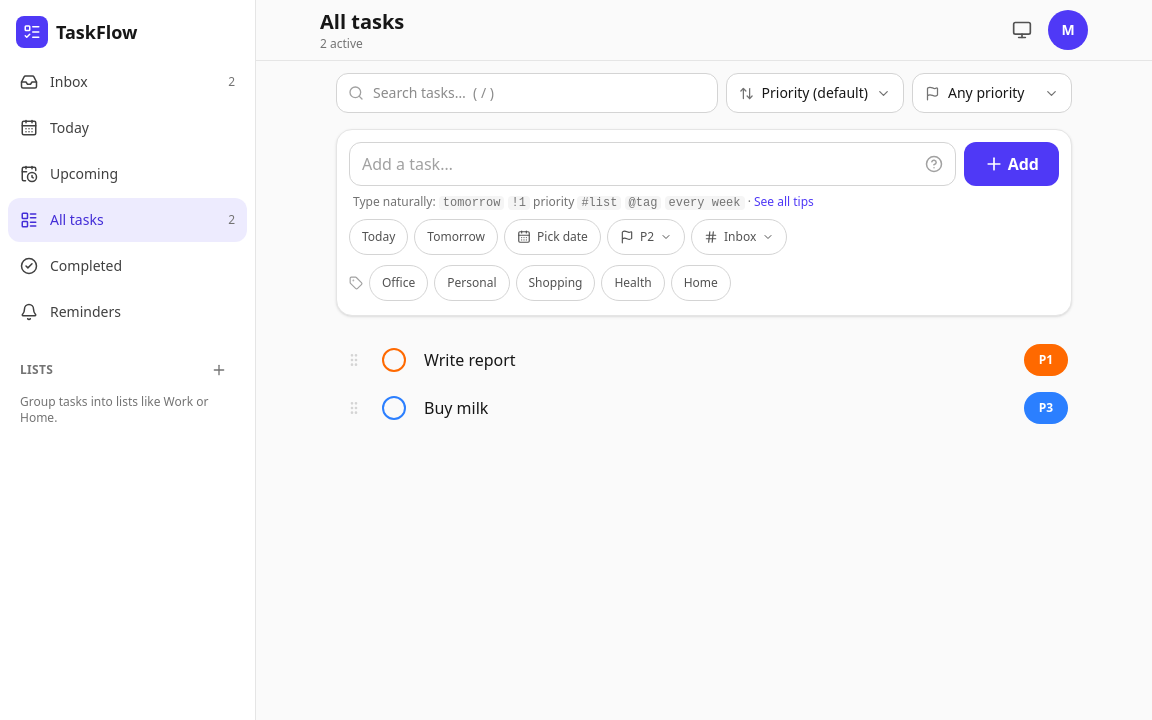
Test: TodoApp › toggles complete instantly and persists
What coordinates should you click on to do the following:
click the checkbox named "Mark as done: Write report"
I would click on:
 (394, 360)
Its box is x1=382 y1=348 x2=406 y2=372.
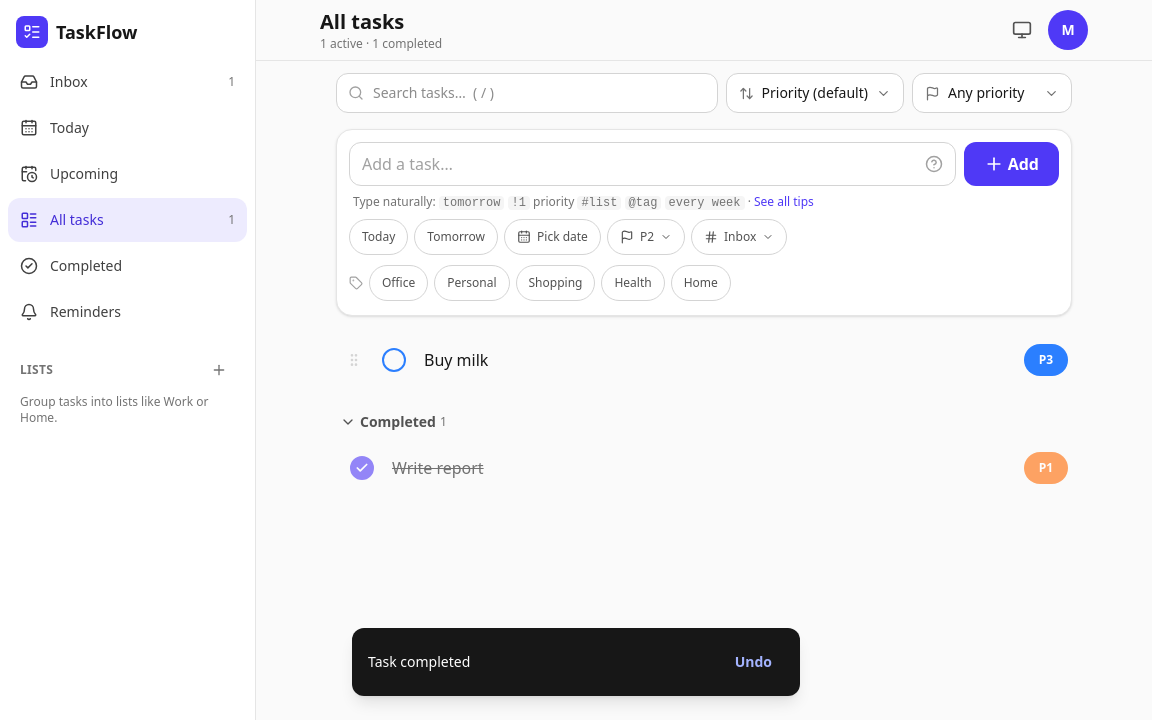
Expected: the text "Task completed" is shown, x1=368 y1=652 x2=470 y2=672
Expected: the checkbox named "Mark as not done: Write report" is checked, x1=350 y1=456 x2=374 y2=480
